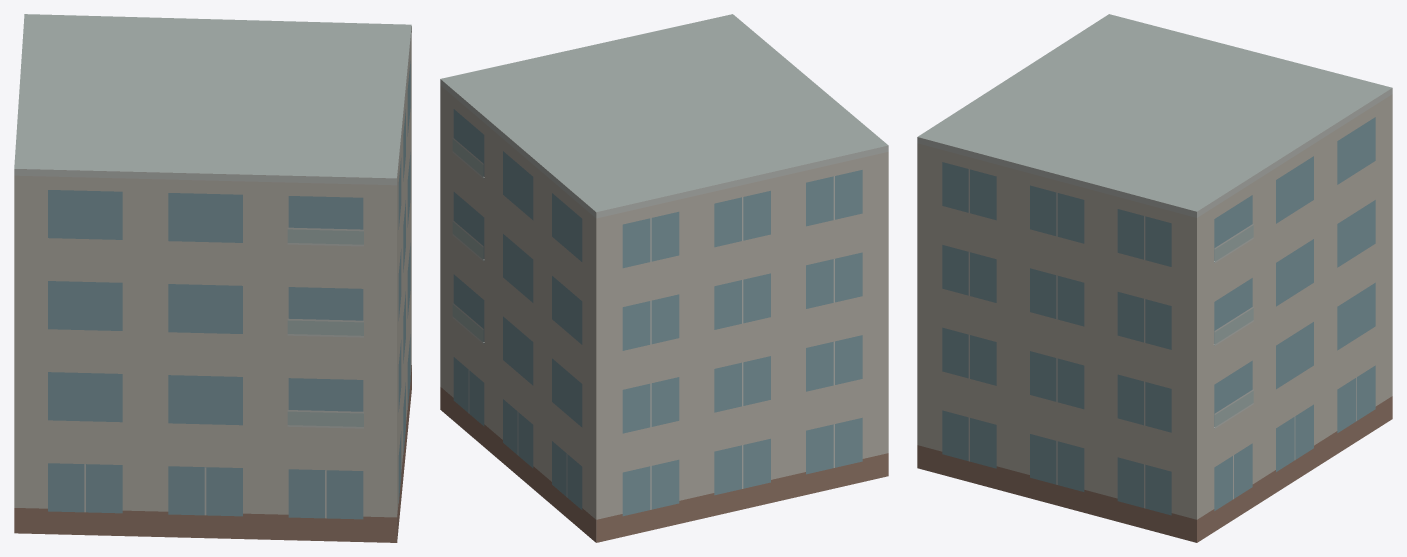
Rendered from survey-upis-32976377.glb.
The picture shows the model from 3 angles, left to right: view 1: azimuth 30°, elevation 25°; view 2: azimuth 150°, elevation 25°; view 3: azimuth 270°, elevation 25°; orthographic projection. The views are drawn at different scales.
Visible parts, largest first — view 1: survey-upis-32976377.tmp; view 2: survey-upis-32976377.tmp; view 3: survey-upis-32976377.tmp.
Boxes of the visible parts, left/top/right/bottom form: survey-upis-32976377.tmp: left=14, top=14, right=411, bottom=542; survey-upis-32976377.tmp: left=440, top=14, right=888, bottom=542; survey-upis-32976377.tmp: left=917, top=14, right=1392, bottom=542.
Size of the model in its own units: 16.53 by 12.9 by 16.79.
